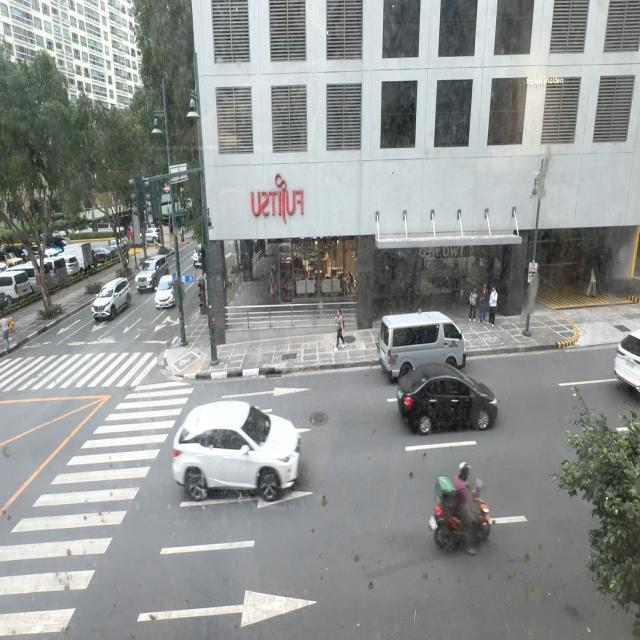waiting: (0, 305, 11, 352)
